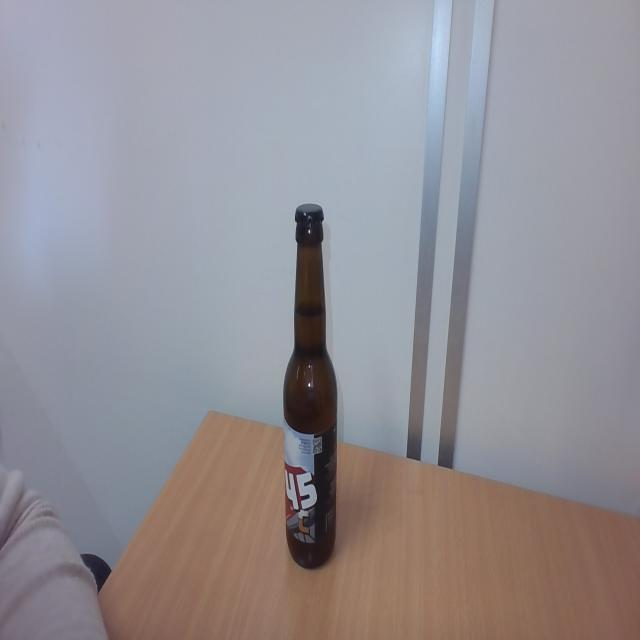Bottle: (283, 231, 337, 571)
Cap: (292, 202, 326, 232)
Label: (284, 426, 338, 538)
